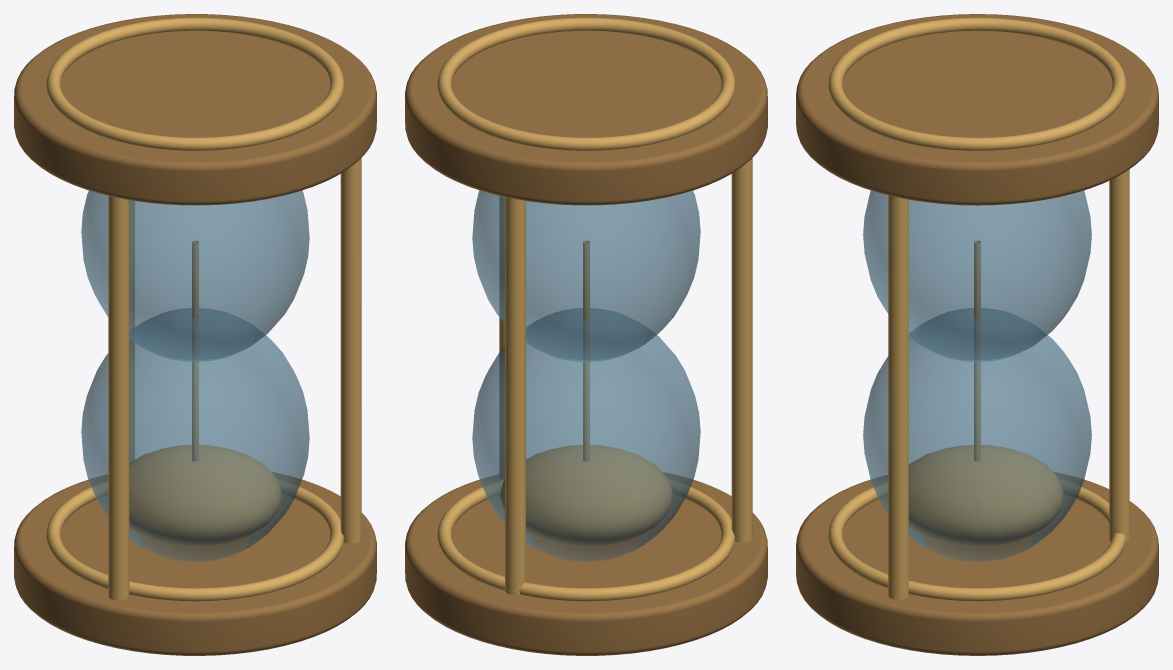
File: chronicle-hourglass-v1.glb
3 views of the same model, side by side, from view 1: azimuth 30°, elevation 25°; view 2: azimuth 150°, elevation 25°; view 3: azimuth 270°, elevation 25° (orthographic).
Visible parts, largest first — view 1: HourglassCap.001, GlassBulb, HourglassCap, GlassBulb.001, CollectedSand, CapInlay.001, HourglassPillar, HourglassPillar.001, CapInlay, HourglassPillar.002, FallingSand; view 2: HourglassCap.001, GlassBulb, HourglassCap, GlassBulb.001, CollectedSand, CapInlay.001, HourglassPillar.002, HourglassPillar, CapInlay, HourglassPillar.001, FallingSand; view 3: HourglassCap.001, GlassBulb, HourglassCap, GlassBulb.001, CollectedSand, CapInlay.001, HourglassPillar.001, HourglassPillar.002, CapInlay, FallingSand.
Boxes of the visible parts, x1,y1,x2,y2 form: HourglassCap.001: [14, 14, 376, 205]; GlassBulb: [81, 308, 309, 561]; HourglassCap: [14, 472, 376, 655]; GlassBulb.001: [81, 190, 309, 361]; CollectedSand: [129, 445, 281, 546]; CapInlay.001: [46, 17, 344, 150]; HourglassPillar: [108, 196, 129, 600]; HourglassPillar.001: [340, 158, 361, 543]; CapInlay: [46, 479, 344, 601]; HourglassPillar.002: [129, 200, 134, 462]; FallingSand: [192, 240, 198, 461]; HourglassCap.001: [405, 14, 767, 205]; GlassBulb: [472, 308, 700, 561]; HourglassCap: [405, 472, 767, 655]; GlassBulb.001: [472, 190, 700, 361]; CollectedSand: [500, 445, 672, 546]; CapInlay.001: [437, 17, 735, 150]; HourglassPillar.002: [505, 197, 525, 594]; HourglassPillar: [731, 158, 752, 542]; CapInlay: [437, 479, 735, 601]; HourglassPillar.001: [499, 196, 504, 479]; FallingSand: [583, 240, 589, 461]; HourglassCap.001: [796, 14, 1158, 205]; GlassBulb: [863, 308, 1091, 561]; HourglassCap: [796, 472, 1158, 655]; GlassBulb.001: [863, 190, 1091, 361]; CollectedSand: [908, 445, 1063, 546]; CapInlay.001: [828, 17, 1126, 150]; HourglassPillar.001: [888, 195, 908, 599]; HourglassPillar.002: [1109, 169, 1129, 541]; CapInlay: [828, 479, 1126, 601]; FallingSand: [974, 240, 980, 461].
Size of the model in its own units: 0.92 by 1.41 by 0.92.
